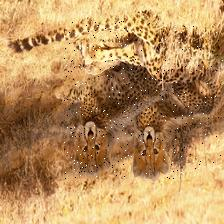Cheetha: (135, 20, 224, 178), (65, 20, 133, 178)
